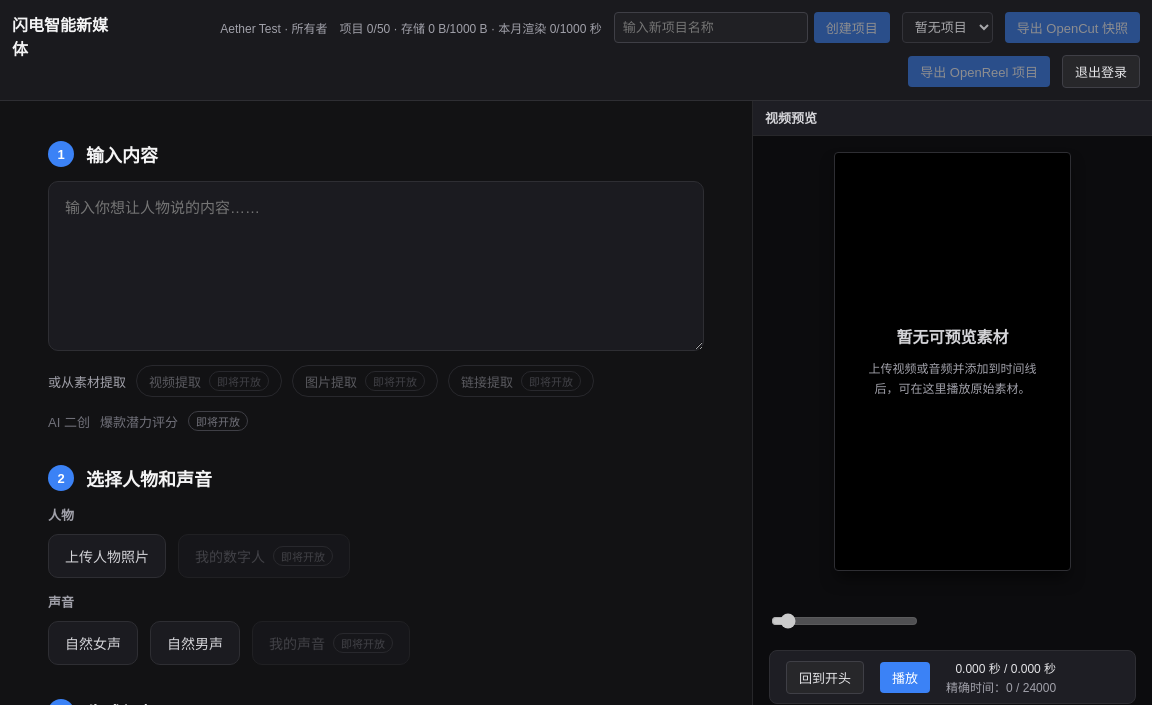
Test case: Aether Studio 中文工作台 › creates a project through the proxied API
This screenshot has width=1152, height=705.
In the field with placeholder "输入新项目名称": (711, 28) [614,12,808,43], type "发布预告片"
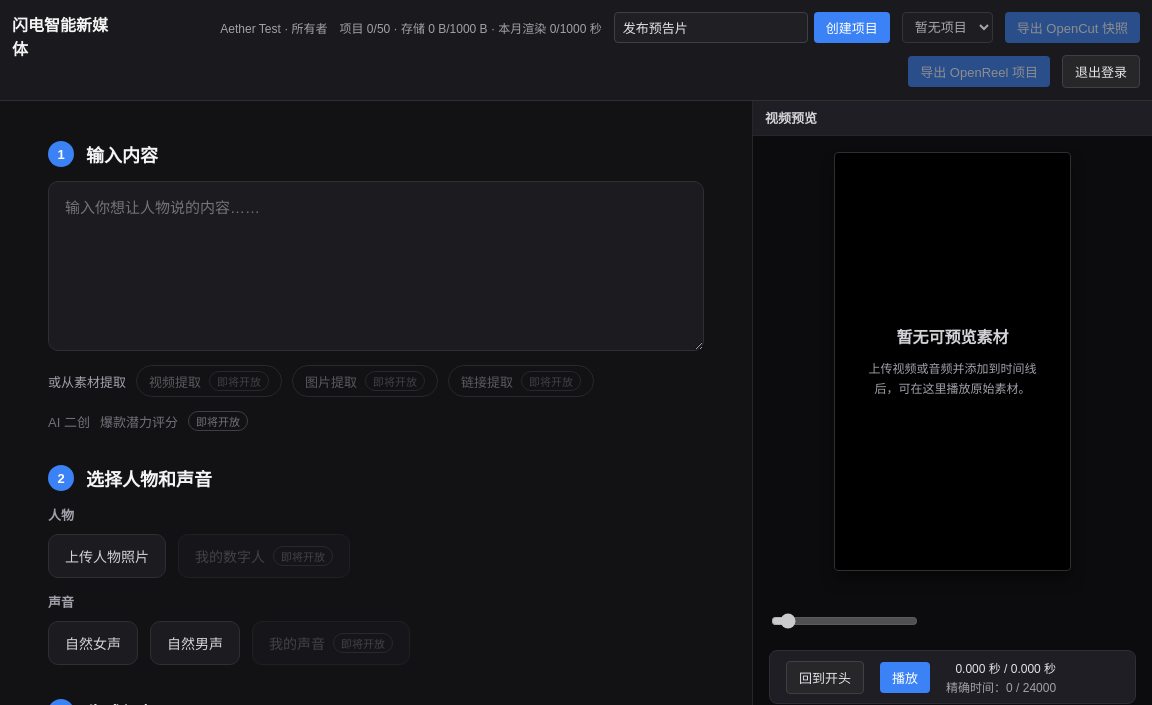
Click the button "创建项目": click(852, 28) [814,12,890,43]
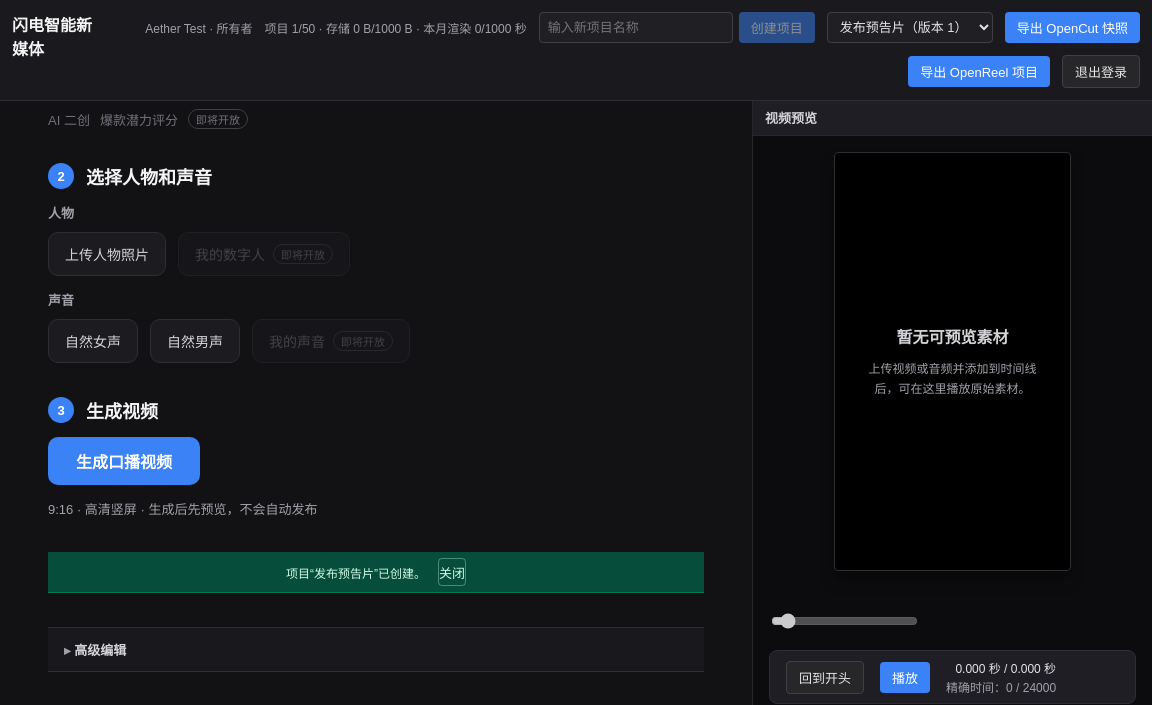
Check: the message shows "已创建", box [286,566,426,580]
